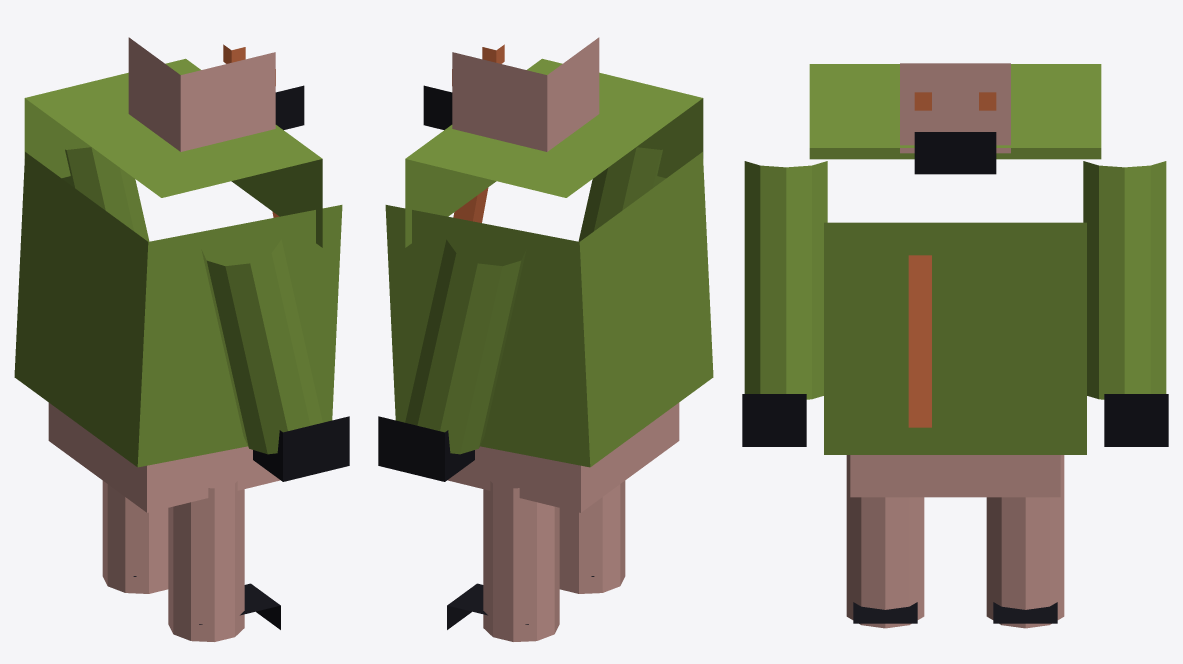
The model's file is abomination.glb.
3 renders of one model, left to right at view 1: azimuth 30°, elevation 25°; view 2: azimuth 150°, elevation 25°; view 3: azimuth 270°, elevation 25°, orthographic. The views are drawn at different scales.
Visible parts, largest first — view 1: abomination-belly, abomination-shoulders, abomination-arm-l, abomination-head, abomination-leg-l, abomination-hips, abomination-leg-r, abomination-fist-l, abomination-arm-r, abomination-jaw, abomination-foot-l; view 2: abomination-belly, abomination-shoulders, abomination-arm-r, abomination-head, abomination-leg-r, abomination-hips, abomination-leg-l, abomination-fist-r, abomination-arm-l, abomination-jaw, abomination-foot-r, abomination-scar; view 3: abomination-belly, abomination-arm-l, abomination-arm-r, abomination-shoulders, abomination-leg-l, abomination-leg-r, abomination-hips, abomination-head, abomination-scar, abomination-jaw, abomination-fist-l, abomination-fist-r (+2 smaller).
Boxes of the visible parts, x1,y1,x2,y2 form: abomination-belly: (14, 152, 342, 467); abomination-shoulders: (24, 58, 322, 247); abomination-arm-l: (201, 239, 322, 454); abomination-head: (128, 37, 275, 151); abomination-leg-l: (168, 481, 244, 641); abomination-hips: (48, 402, 280, 512); abomination-leg-r: (102, 481, 168, 593); abomination-fist-l: (253, 416, 349, 481); abomination-arm-r: (62, 147, 149, 241); abomination-jaw: (275, 85, 304, 129); abomination-foot-l: (199, 583, 280, 629); abomination-belly: (385, 152, 713, 467); abomination-shoulders: (405, 58, 703, 247); abomination-arm-r: (405, 239, 526, 454); abomination-head: (452, 37, 599, 151); abomination-leg-r: (483, 481, 559, 641); abomination-hips: (447, 402, 679, 512); abomination-leg-l: (559, 481, 625, 593); abomination-fist-r: (378, 416, 474, 481); abomination-arm-l: (578, 147, 665, 241); abomination-jaw: (423, 85, 452, 129); abomination-foot-r: (447, 583, 528, 629); abomination-scar: (453, 187, 488, 222); abomination-belly: (824, 222, 1086, 454); abomination-arm-l: (744, 161, 827, 399); abomination-arm-r: (1083, 161, 1166, 399); abomination-shoulders: (809, 64, 1101, 159); abomination-leg-l: (846, 455, 924, 628); abomination-leg-r: (986, 455, 1064, 628); abomination-hips: (850, 455, 1060, 497); abomination-head: (900, 63, 1010, 153); abomination-scar: (908, 255, 931, 427); abomination-jaw: (914, 132, 996, 174); abomination-fist-l: (742, 394, 806, 446); abomination-fist-r: (1104, 394, 1168, 446).
Size of the model in its own units: 0.9668 by 2.25 by 1.46.
